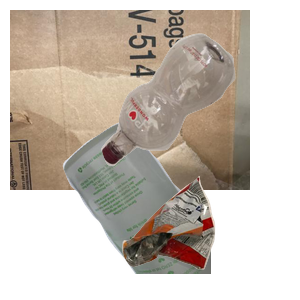cardboard: (10, 10, 250, 190)
glass: (60, 120, 300, 300)
plastic: (99, 31, 300, 189)
trash: (120, 174, 300, 300)
